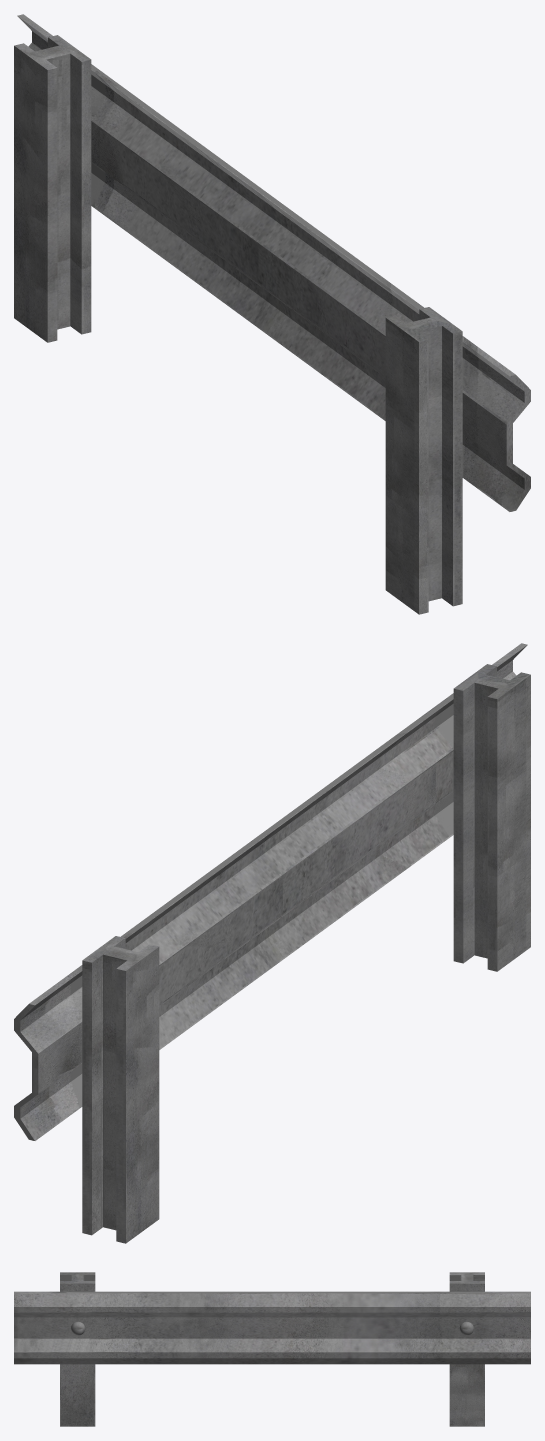
The model's file is highway_fence.glb.
The picture shows the model from 3 angles, top to bottom: view 1: azimuth 30°, elevation 25°; view 2: azimuth 150°, elevation 25°; view 3: azimuth 270°, elevation 25°; orthographic projection. The views are drawn at different scales.
Parts seen in each view (by area): view 1: Cube_0; view 2: Cube_0; view 3: Cube_0.
Boxes of the visible parts, x1,y1,x2,y2 form: Cube_0: (14,14,530,614); Cube_0: (14,643,530,1243); Cube_0: (14,1272,530,1426).
Size of the model in its own units: 0.3506 by 1.34 by 4.4.
1 material, 1 textured.
